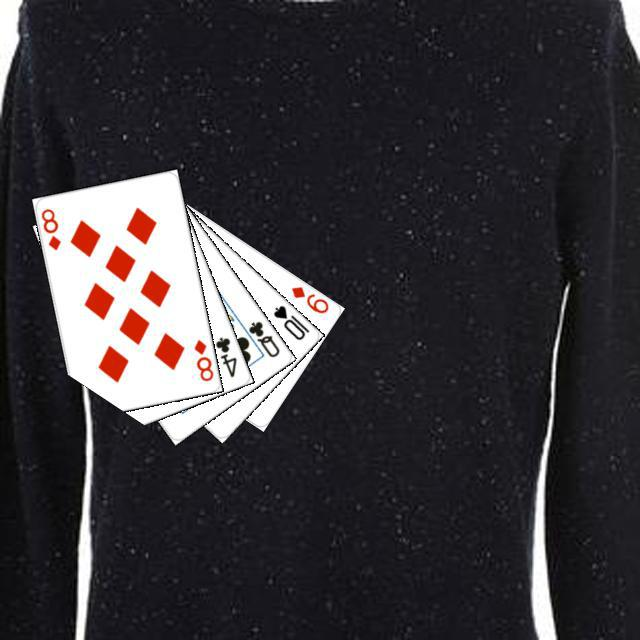10s: (268, 300, 311, 342)
4c: (210, 332, 238, 379)
8d: (189, 335, 215, 383), (36, 204, 62, 252)
9d: (286, 281, 330, 315)
Qc: (236, 316, 281, 359)
